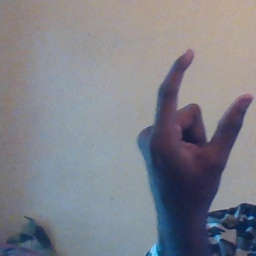U: (128, 45, 256, 197)
